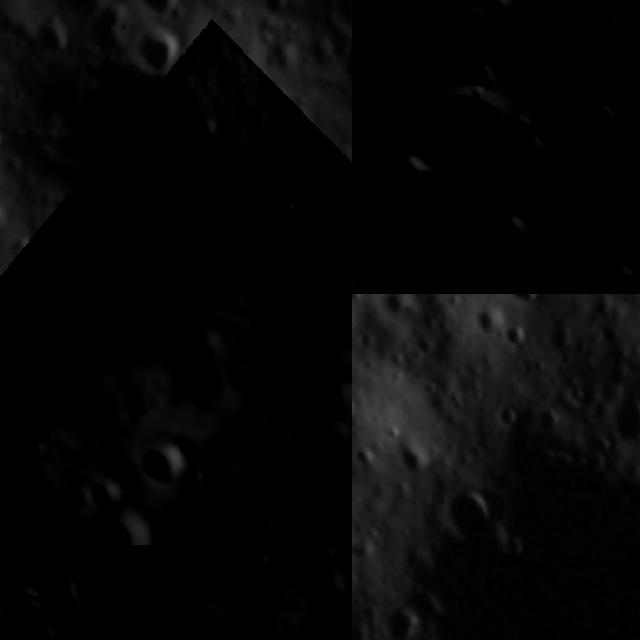crater: (352, 334, 640, 640), (28, 68, 207, 226), (389, 70, 540, 210), (352, 12, 444, 141), (78, 503, 164, 581), (428, 474, 508, 554), (436, 16, 507, 95), (578, 377, 640, 466), (486, 191, 554, 265), (363, 587, 436, 640), (131, 439, 193, 491), (42, 572, 94, 624), (462, 294, 514, 345), (388, 146, 434, 197), (134, 27, 179, 78), (180, 322, 230, 365), (227, 226, 269, 274), (492, 311, 536, 356), (56, 467, 97, 515), (0, 579, 40, 626), (29, 0, 106, 22), (492, 294, 558, 319), (85, 472, 126, 512), (269, 192, 309, 232), (310, 561, 352, 598), (613, 117, 640, 164), (622, 359, 640, 428), (246, 544, 279, 580), (122, 0, 179, 19), (473, 0, 517, 24), (352, 385, 362, 430)
